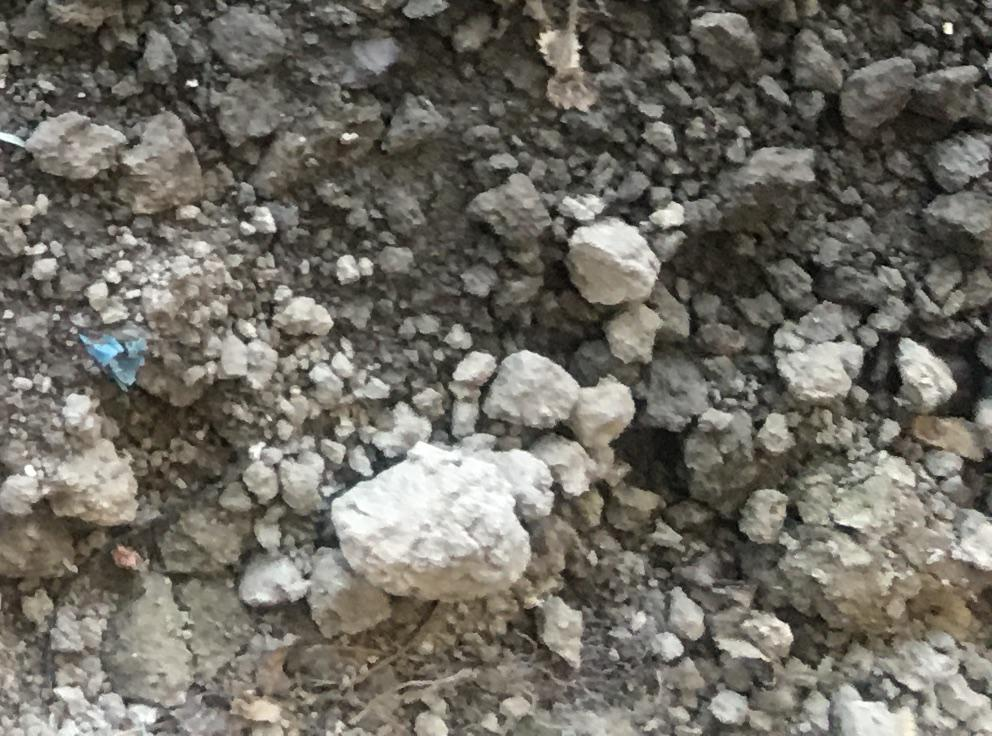block: (329, 442, 533, 602), (565, 209, 664, 309), (482, 346, 583, 438)
